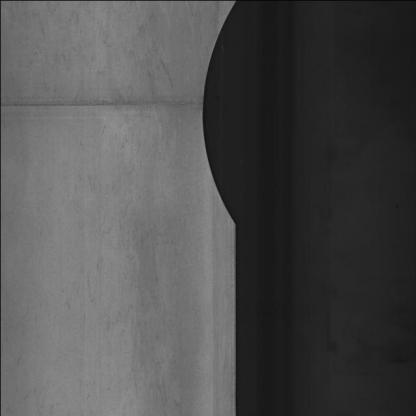crescent_gap: (189, 0, 265, 236)
welding_line: (3, 86, 221, 122)
